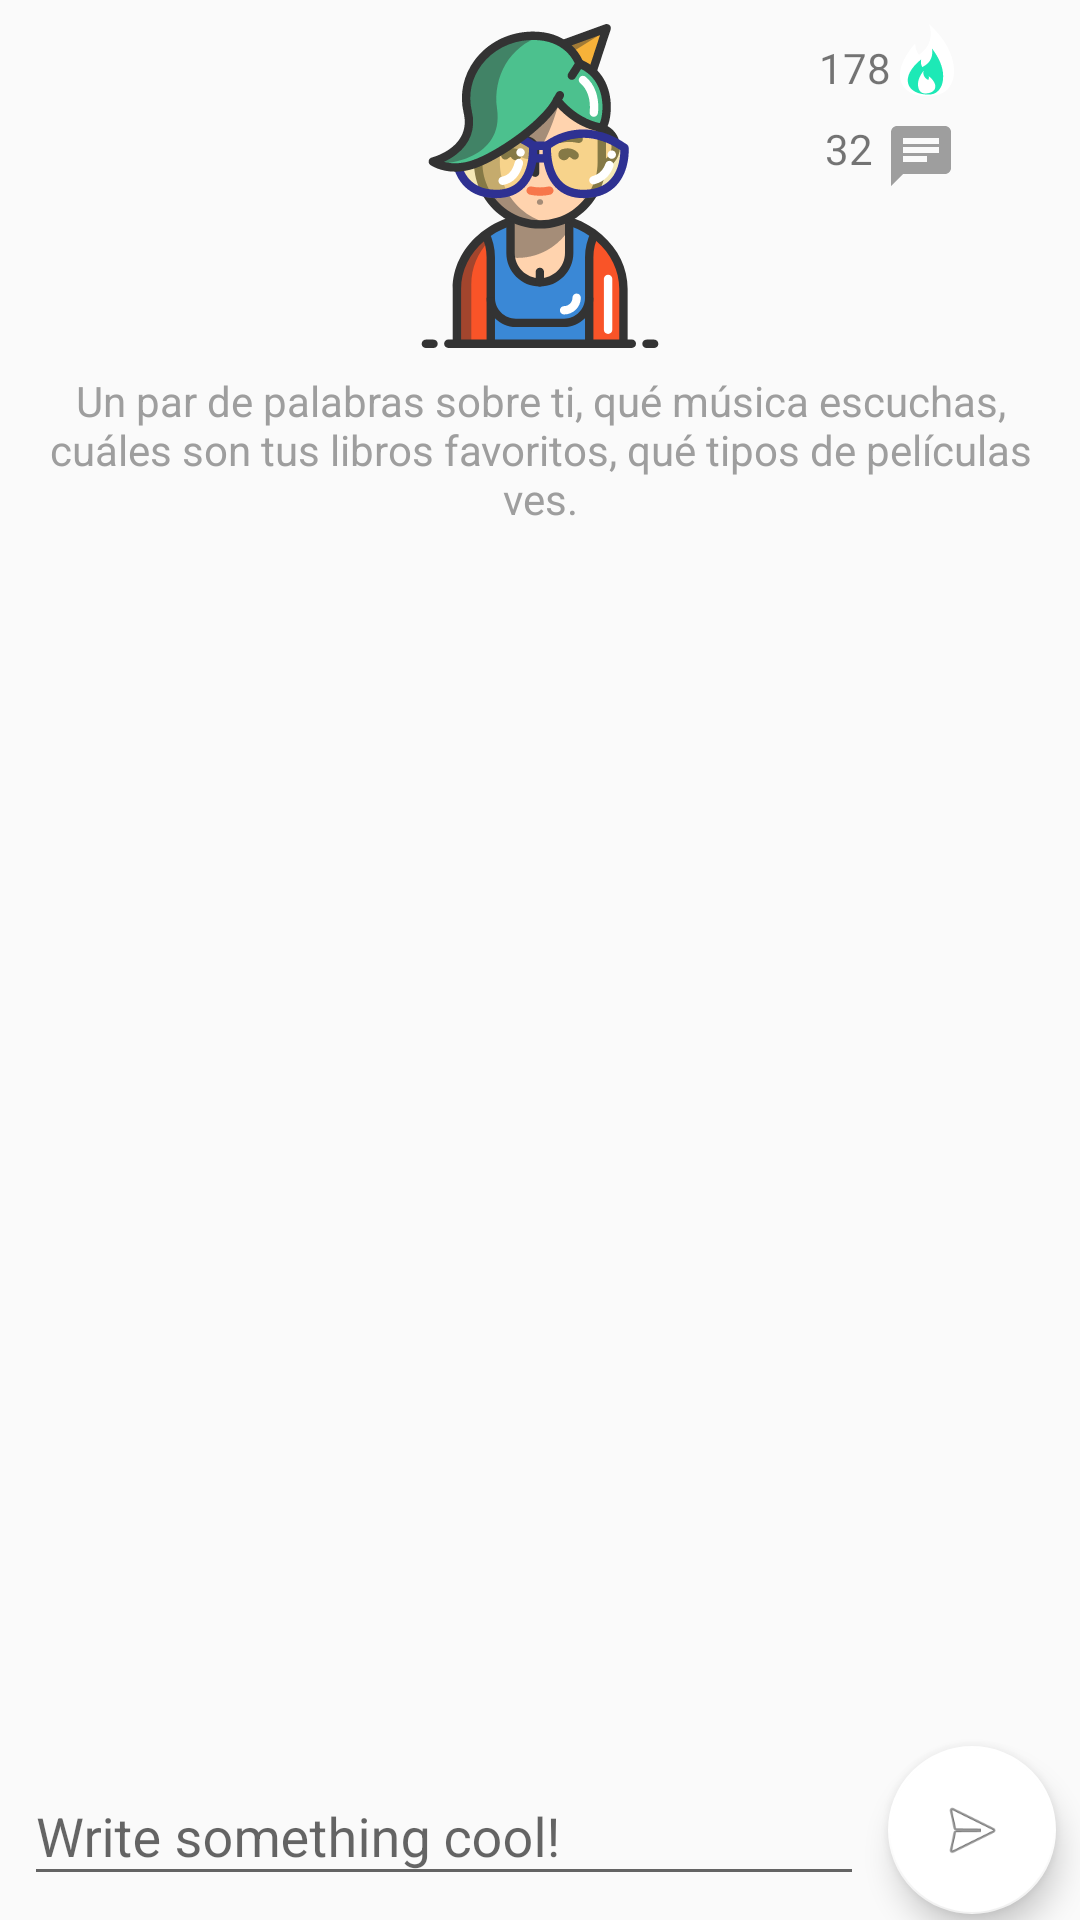

Locate icon controls on the screen. Image size 1080 x 1920, boxes as (x1, y1, x2, y2).
gir hipster: (421, 24, 659, 348)
send: (894, 1808, 1056, 1914)
